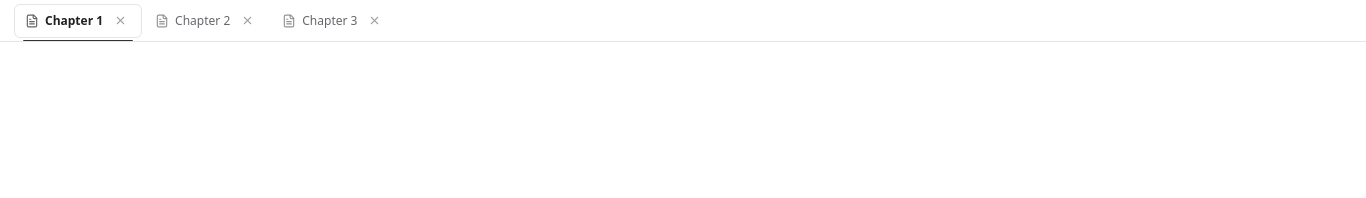
Test: TabBar Dual Split Context Menu & Indicators › renders tabs correctly and opens split context menu on right click
The image size is (1366, 198).
Later steps or results of the test are not shown.
Check: the text "Chapter 1" is shown, box [45,12,103,29]
Check: the text "Chapter 2" is shown, box [175,12,230,29]
Right-click the tab "Chapter 2" at {"x": 207, "y": 20}, box [155,10,258,32]
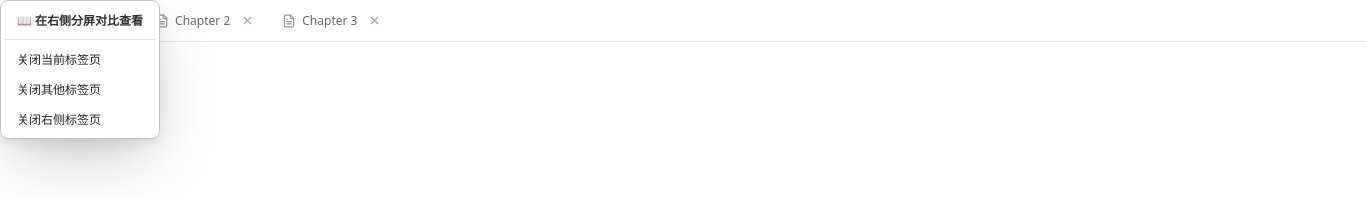
Check: the button "📖 在右侧分屏对比查看" is shown, box [5,5,155,35]
